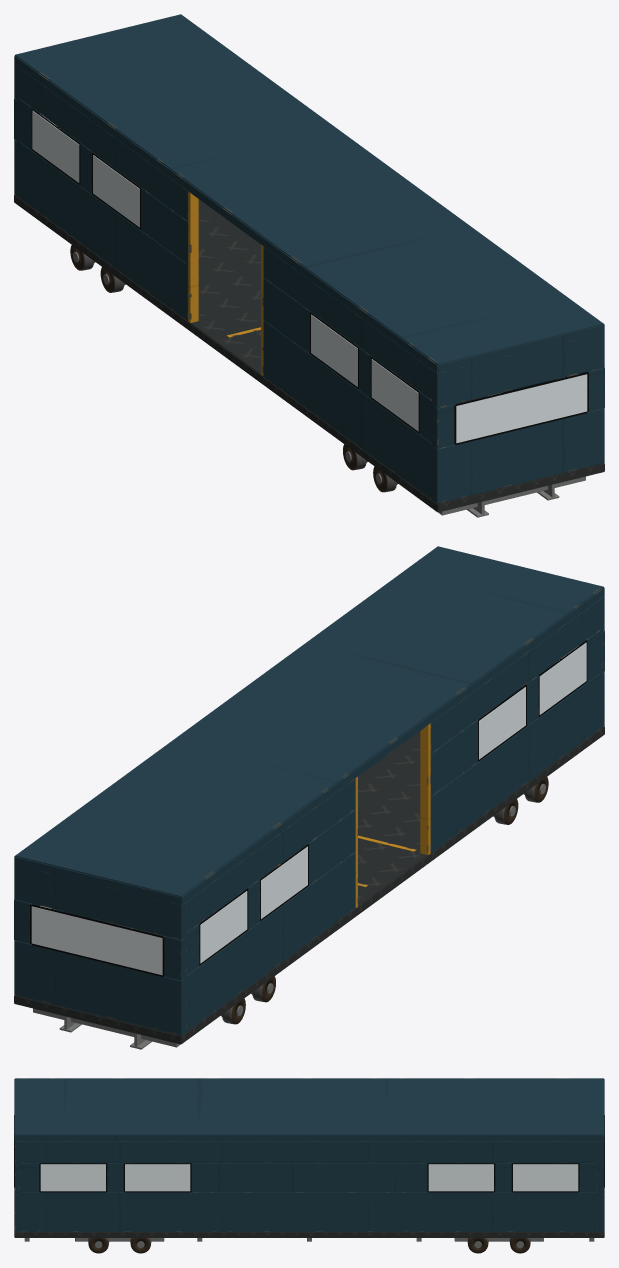
The model's file is RailDepartureCoach.fbx.
3 views of the same model, one above another, from view 1: azimuth 30°, elevation 25°; view 2: azimuth 150°, elevation 25°; view 3: azimuth 270°, elevation 25° (orthographic). The views are drawn at different scales.
Parts seen in each view (by area): view 1: RailDepartureCoach.001; view 2: RailDepartureCoach.001; view 3: RailDepartureCoach.001.
Part boxes in pixels (box(x1,y1,x2,y2)): RailDepartureCoach.001: box(14, 14, 604, 517); RailDepartureCoach.001: box(14, 546, 604, 1049); RailDepartureCoach.001: box(14, 1078, 604, 1253).
Size of the model in its own units: 3.2 by 3.14 by 14.02.
